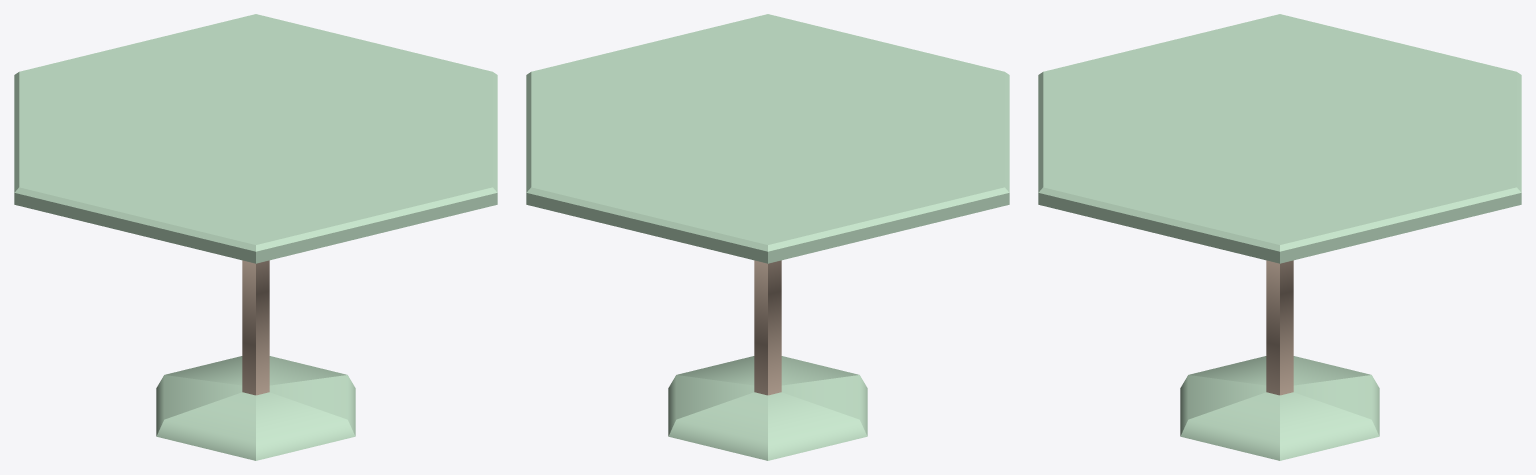
The model's file is tableTextured.fbx.
3 renders of one model, left to right at view 1: azimuth 30°, elevation 25°; view 2: azimuth 150°, elevation 25°; view 3: azimuth 270°, elevation 25°, orthographic.
Visible parts, largest first — view 1: pCylinder6; view 2: pCylinder6; view 3: pCylinder6.
Boxes of the visible parts, left/top/right/bottom form: pCylinder6: left=14, top=14, right=497, bottom=460; pCylinder6: left=526, top=14, right=1009, bottom=460; pCylinder6: left=1038, top=14, right=1521, bottom=460.
Size of the model in its own units: 13.86 by 7.75 by 12.
